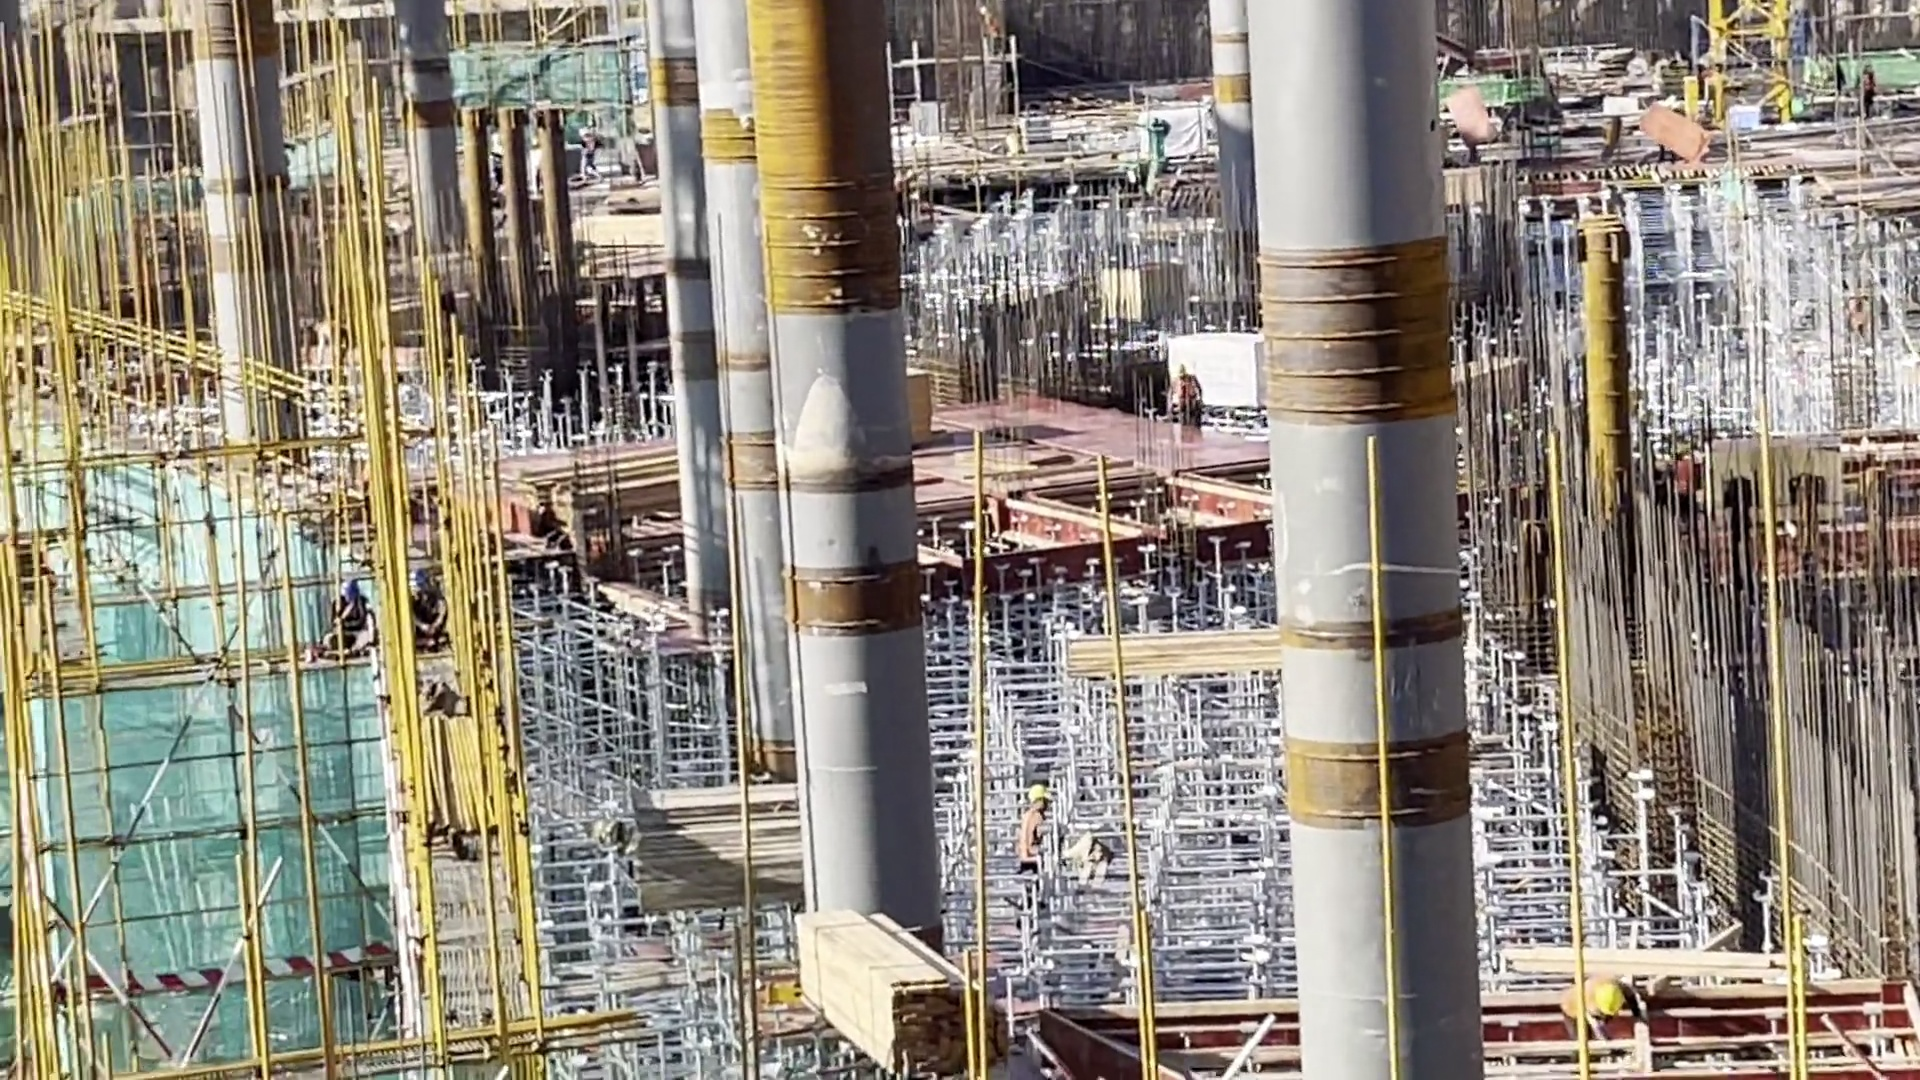helmet: (1595, 984, 1625, 1019), (405, 568, 430, 592), (336, 581, 361, 603), (1030, 786, 1055, 806), (1172, 362, 1186, 376), (577, 127, 589, 135)
person: (1555, 977, 1636, 1053), (395, 569, 454, 652), (322, 578, 380, 661), (1014, 782, 1053, 876), (1168, 361, 1204, 424), (1857, 58, 1881, 125), (579, 125, 598, 174)
vest: (1558, 982, 1597, 1027), (1021, 816, 1046, 861), (411, 594, 440, 632), (329, 601, 369, 627), (1174, 381, 1197, 406), (1863, 72, 1875, 93), (583, 138, 596, 157)
